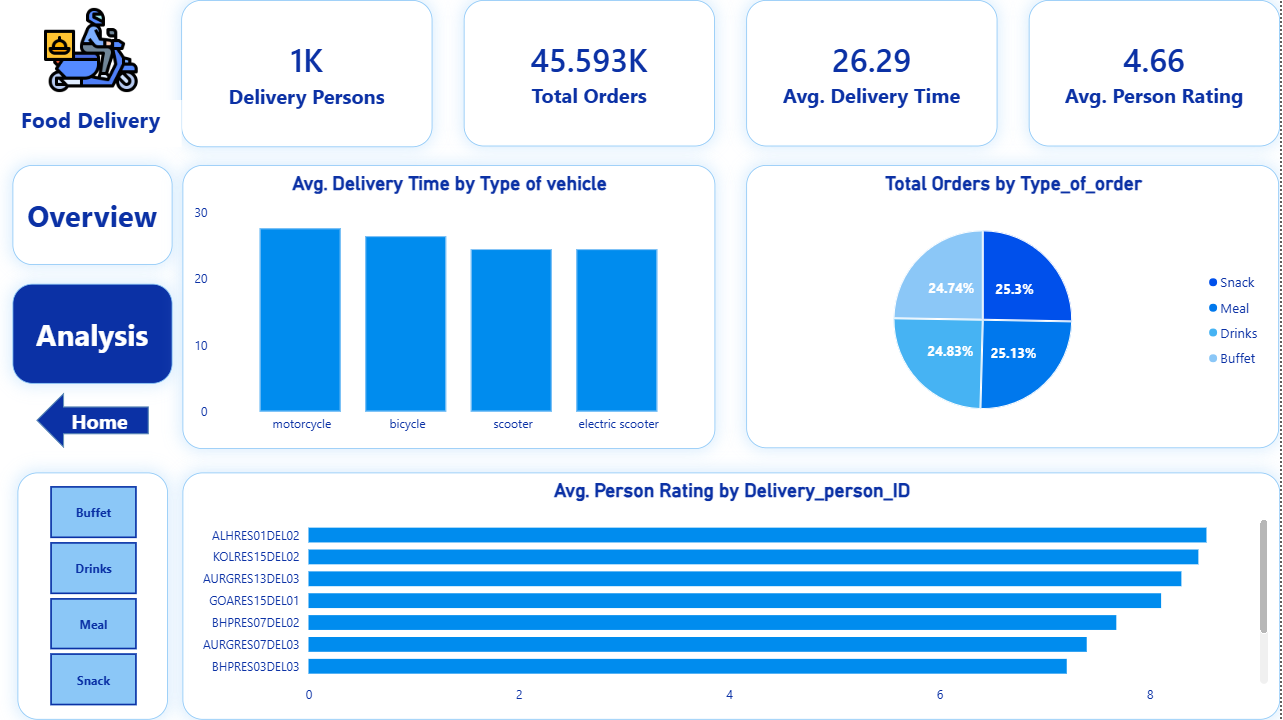

The page's visual inventory and layout, read from the dashboard file:
{"tool":"powerbi","page":{"name":"Analysis","canvas":[1280,720],"ordinal":2},"visuals":[{"type":"cardVisual","fields":{"Data":["MyMeasures.Total Orders"]},"box":[464.3,0,251,146.7],"z":0},{"type":"cardVisual","fields":{"Data":["MyMeasures.No. Delivery Persons"]},"box":[181.8,0,251,147.2],"z":1000},{"type":"cardVisual","fields":{"Data":["MyMeasures.Avg.Delivery Time"]},"box":[746.8,0,251,146.7],"z":2000},{"type":"cardVisual","fields":{"Data":["MyMeasures.Avg.Delivery Person Rating"]},"box":[1029,0,251,146.7],"z":3000},{"type":"image","box":[0,23.5,181.8,100.2],"z":4000},{"type":"actionButton","box":[12.4,164.5,160,100.2],"z":5000},{"type":"actionButton","box":[12.4,283.3,160,100.2],"z":6000},{"type":"shape","box":[35.9,392.1,112.6,55.7],"z":7000},{"type":"pieChart","fields":{"Y":["MyMeasures.Total Orders"],"Category":["Cleaned_Data2.Type_of_order"]},"box":[746.2,165,533.1,283.3],"z":8000},{"type":"barChart","fields":{"Category":["Cleaned_Data2.Delivery_person_ID"],"Y":["MyMeasures.Avg. Person Rating"]},"box":[182.5,472.5,1097.5,247.5],"z":9000},{"type":"columnChart","fields":{"Category":["Cleaned_Data2.Type of vehicle"],"Y":["MyMeasures.Avg. Delivery Time"]},"box":[182.5,165,532.5,283.8],"z":10000},{"type":"slicer","fields":{"Values":["Cleaned_Data2.Type_of_order"]},"box":[17.5,472.5,150,247],"z":11000}]}

Visuals, with their boxes in screenshot pixels (x1, y1, x2, y2), scaled from the page's 1280x720 canvas onto the 1283x720 screenshot:
cardVisual - MyMeasures.Total Orders: left=465, top=0, right=717, bottom=147
cardVisual - MyMeasures.No. Delivery Persons: left=182, top=0, right=434, bottom=147
cardVisual - MyMeasures.Avg.Delivery Time: left=749, top=0, right=1000, bottom=147
cardVisual - MyMeasures.Avg.Delivery Person Rating: left=1031, top=0, right=1282, bottom=147
image: left=0, top=24, right=182, bottom=124
actionButton: left=12, top=164, right=173, bottom=265
actionButton: left=12, top=283, right=173, bottom=384
shape: left=36, top=392, right=149, bottom=448
pieChart - MyMeasures.Total Orders x Cleaned_Data2.Type_of_order: left=748, top=165, right=1282, bottom=448
barChart - Cleaned_Data2.Delivery_person_ID x MyMeasures.Avg. Person Rating: left=183, top=472, right=1282, bottom=719
columnChart - Cleaned_Data2.Type of vehicle x MyMeasures.Avg. Delivery Time: left=183, top=165, right=717, bottom=449
slicer - Cleaned_Data2.Type_of_order: left=18, top=472, right=168, bottom=719
